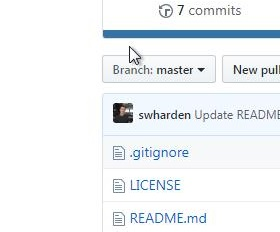cursor: (128, 45, 142, 66)
